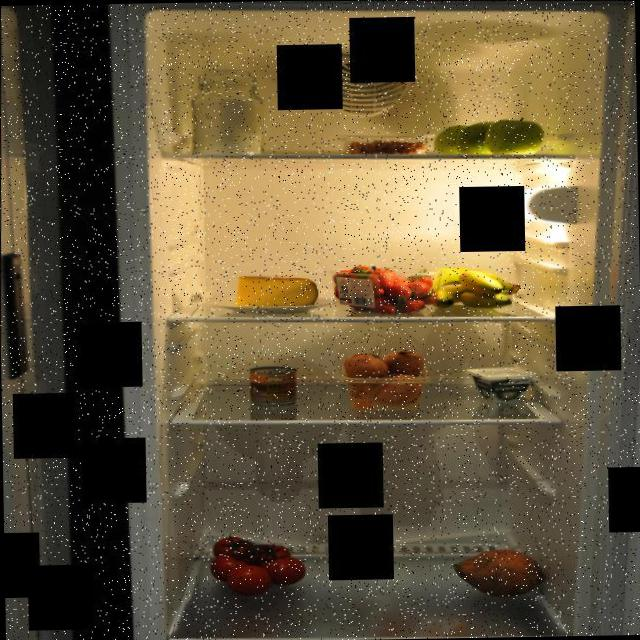Cebolla: (338, 345, 426, 407)
Gambas/Langostinos: (344, 131, 432, 157)
Manzana: (427, 110, 551, 156)
Plátano: (426, 265, 525, 311)
Queso: (231, 271, 321, 313)
Tomate: (205, 530, 312, 598)
